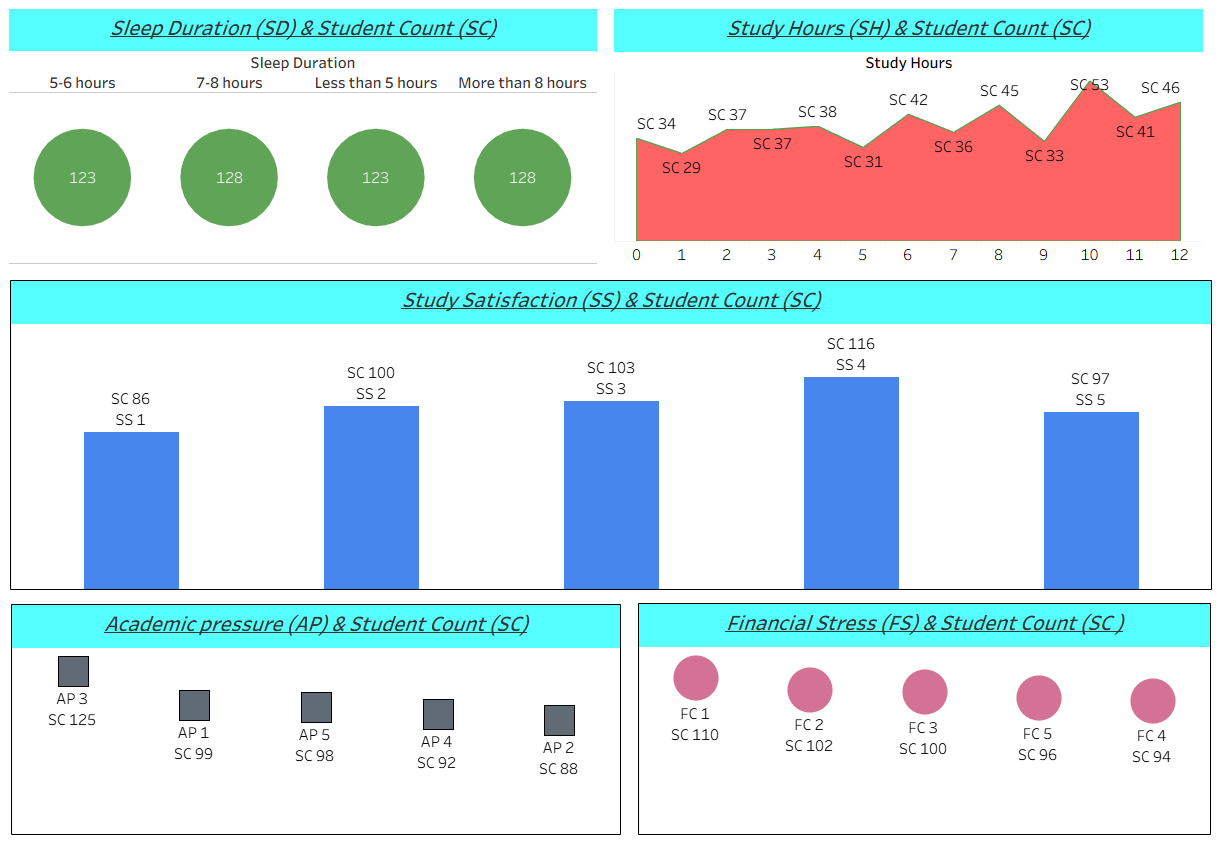

What the dashboard file says about the page in this screenshot:
{"tool":"tableau","page":{"name":"Student Count Analysis","canvas":[1000,1000],"units":"permille","ordinal":0},"visuals":[{"type":"worksheet","title":"SD_SC","mark":"Pie","cols":["Sleep_Duration"],"box":[10.3,10.6,354.9,299.7]},{"type":"worksheet","title":"SH_SC","mark":"Area","rows":["Index_Column"],"cols":["Study_Hours"],"box":[375.4,10.6,355.5,302]},{"type":"worksheet","title":"SS_SC","mark":"Automatic","rows":["Index_Column"],"cols":["Study_Satisfaction"],"box":[10.9,329,725.4,364.3]},{"type":"worksheet","title":"FS_SC","mark":"Circle","rows":["Index_Column"],"cols":["Financial_Stress"],"box":[389.9,708.6,345.8,272.6]},{"type":"worksheet","title":"AP_SC","mark":"Square","rows":["Index_Column"],"cols":["Academic_Pressure"],"box":[11.5,709.8,368.1,271.4]}]}

Visuals, with their boxes on the dashboard's canvas, which has no fixed pixel size, in thousandths of its width and height (x1, y1, x2, y2). These are canvas units, not pixel positions in the 1220x843 screenshot, which may show the page scaled, cropped or inside an application window:
"SD_SC" worksheet (Pie marks): 10/11/365/310
"SH_SC" worksheet (Area marks): 375/11/731/313
"SS_SC" worksheet: 11/329/736/693
"FS_SC" worksheet (Circle marks): 390/709/736/981
"AP_SC" worksheet (Square marks): 12/710/380/981
